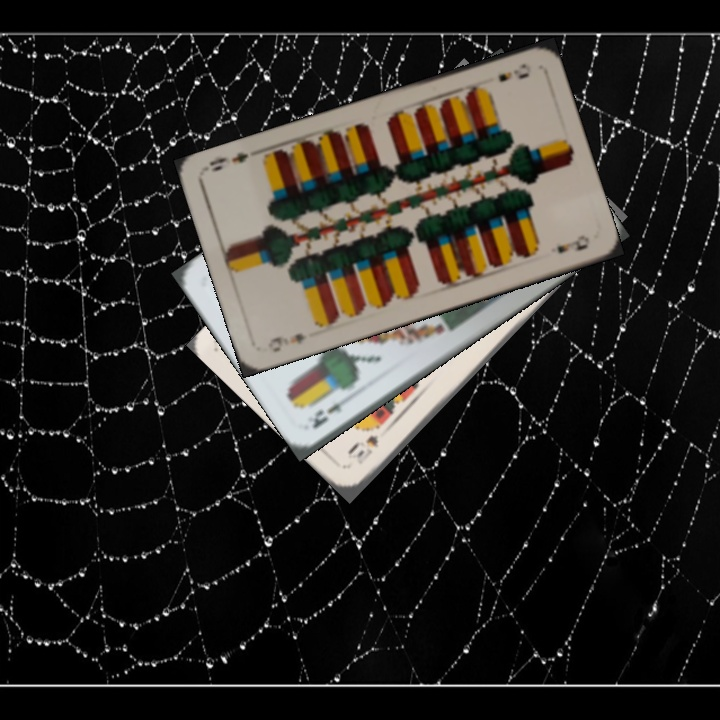E9: (264, 329, 309, 355), (494, 59, 532, 85)
EK: (303, 390, 356, 432)
S10: (352, 430, 382, 468)
